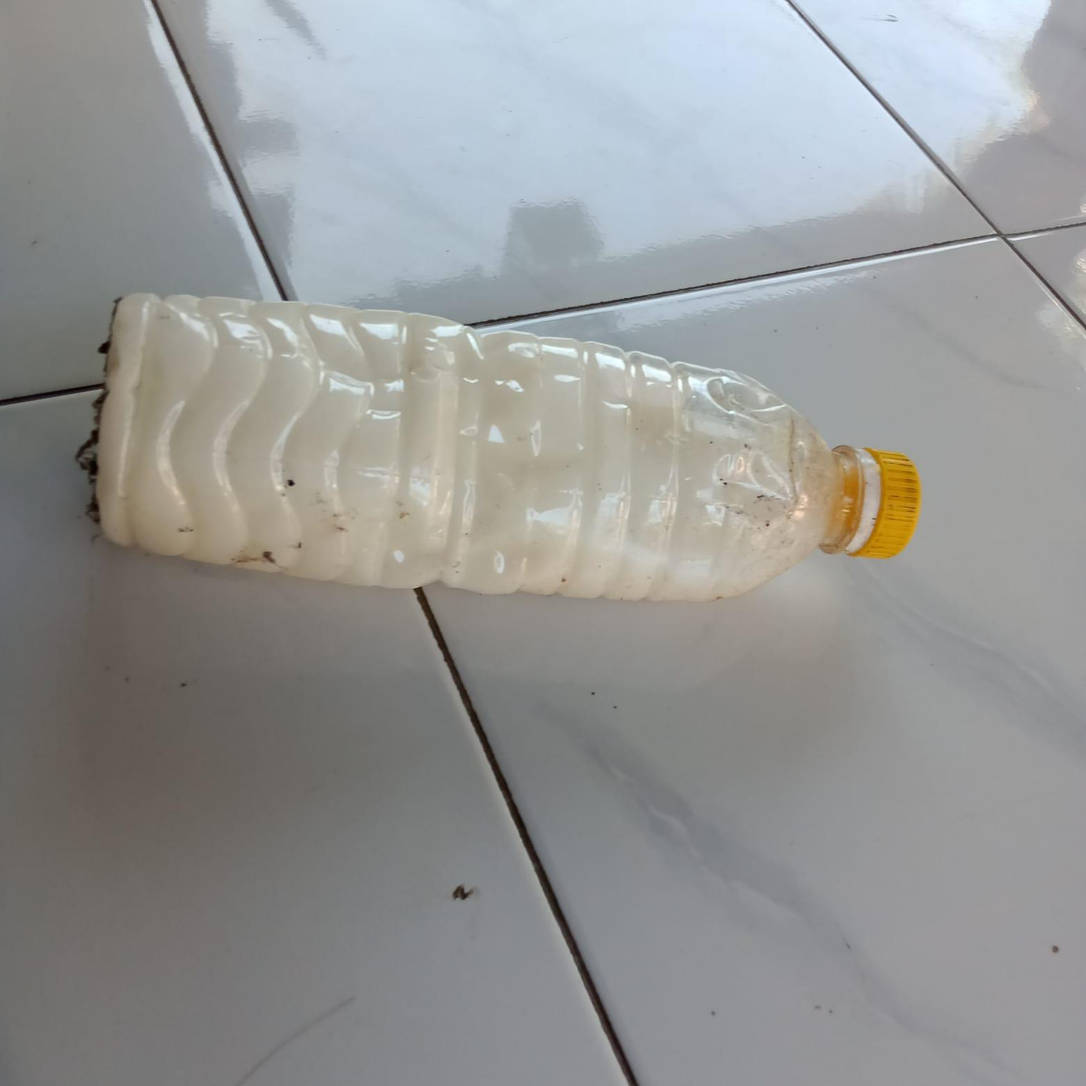Plastik: (99, 290, 922, 611)
